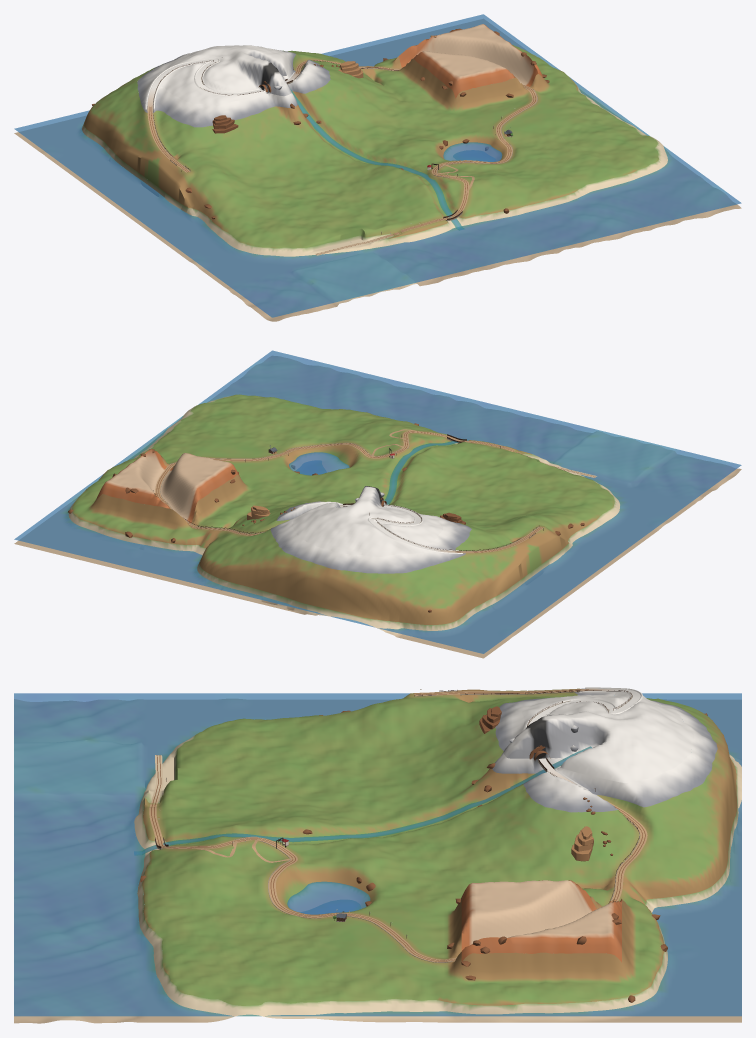
Rendered from z1-piste.glb.
3 renders of one model, top to bottom at view 1: azimuth 30°, elevation 25°; view 2: azimuth 150°, elevation 25°; view 3: azimuth 270°, elevation 25°, orthographic. The views are drawn at different scales.
Visible parts, largest first — view 1: Z1_Terrain_Mountain_Grass, Z1_Terrain_Mountain_Sea, Z1_Terrain_Mountain_Sea_Floor, Z1_Terrain_Mountain_Sand, Z1_Terrain_Mountain_Desert, Z1_Terrain_Mountain_Snow, Z1_Terrain_Mountain_Snowline, Z1_Terrain_Piste, Z1_Terrain_Mountain_River, Z1_Terrain_Mountain_Lake, Z1_Terrain_Piste_SnowBanks, Z1_Terrain_Mountain_Outcrops; view 2: Z1_Terrain_Mountain_Grass, Z1_Terrain_Mountain_Sea, Z1_Terrain_Mountain_Sea_Floor, Z1_Terrain_Mountain_Snow, Z1_Terrain_Mountain_Sand, Z1_Terrain_Mountain_Desert, Z1_Terrain_Mountain_Snowline, Z1_Terrain_Piste, Z1_Terrain_Mountain_Lake, Z1_Terrain_Mountain_River; view 3: Z1_Terrain_Mountain_Grass, Z1_Terrain_Mountain_Sea, Z1_Terrain_Mountain_Sea_Floor, Z1_Terrain_Mountain_Snow, Z1_Terrain_Mountain_Sand, Z1_Terrain_Mountain_Desert, Z1_Terrain_Mountain_Snowline, Z1_Terrain_Piste, Z1_Terrain_Mountain_Lake, Z1_Terrain_Mountain_River, Z1_Terrain_Mountain_Outcrops, Z1_Terrain_Piste_SnowBanks.
Boxes of the visible parts, box(x1,y1,x2,y2) form: Z1_Terrain_Mountain_Grass: box(84, 45, 658, 248); Z1_Terrain_Mountain_Sea: box(14, 14, 741, 317); Z1_Terrain_Mountain_Sea_Floor: box(14, 19, 741, 321); Z1_Terrain_Mountain_Sand: box(82, 60, 667, 256); Z1_Terrain_Mountain_Desert: box(399, 24, 542, 98); Z1_Terrain_Mountain_Snow: box(150, 45, 308, 105); Z1_Terrain_Mountain_Snowline: box(137, 49, 330, 127); Z1_Terrain_Piste: box(147, 59, 537, 255); Z1_Terrain_Mountain_River: box(290, 89, 464, 230); Z1_Terrain_Mountain_Lake: box(443, 142, 502, 161); Z1_Terrain_Piste_SnowBanks: box(145, 58, 301, 109); Z1_Terrain_Mountain_Outcrops: box(92, 28, 549, 219); Z1_Terrain_Mountain_Grass: box(72, 394, 614, 624); Z1_Terrain_Mountain_Sea: box(14, 350, 741, 653); Z1_Terrain_Mountain_Sea_Floor: box(14, 356, 741, 658); Z1_Terrain_Mountain_Snow: box(292, 486, 442, 556); Z1_Terrain_Mountain_Sand: box(68, 395, 620, 630); Z1_Terrain_Mountain_Desert: box(97, 449, 240, 523); Z1_Terrain_Mountain_Snowline: box(270, 501, 471, 573); Z1_Terrain_Piste: box(155, 429, 596, 553); Z1_Terrain_Mountain_Lake: box(289, 452, 349, 475); Z1_Terrain_Mountain_River: box(384, 438, 468, 504); Z1_Terrain_Mountain_Grass: box(142, 688, 737, 1005); Z1_Terrain_Mountain_Sea: box(14, 693, 741, 1016); Z1_Terrain_Mountain_Sea_Floor: box(14, 699, 741, 1023); Z1_Terrain_Mountain_Snow: box(503, 689, 694, 786); Z1_Terrain_Mountain_Sand: box(134, 728, 741, 1016); Z1_Terrain_Mountain_Desert: box(461, 880, 621, 962); Z1_Terrain_Mountain_Snowline: box(492, 688, 717, 812); Z1_Terrain_Piste: box(149, 688, 647, 962); Z1_Terrain_Mountain_Lake: box(287, 881, 370, 914); Z1_Terrain_Mountain_River: box(134, 746, 591, 855); Z1_Terrain_Mountain_Outcrops: box(140, 710, 707, 1002); Z1_Terrain_Piste_SnowBanks: box(524, 687, 642, 789).
Size of the model in its own units: 420 by 68 by 400.
